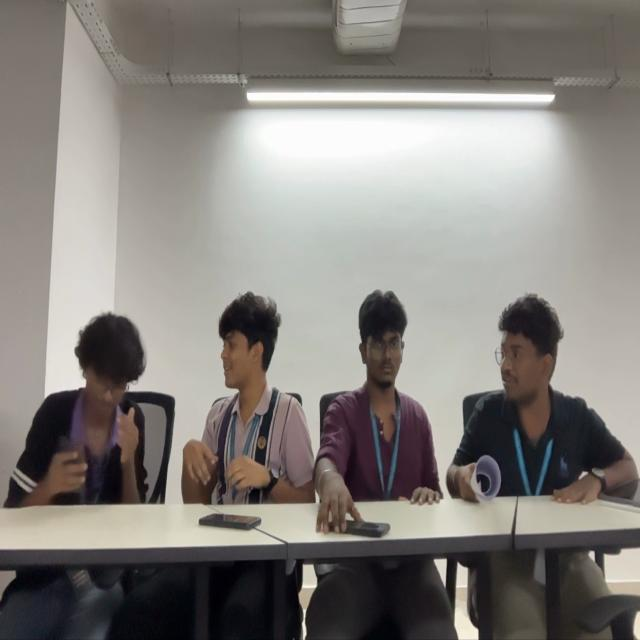Isolated: (448, 293, 638, 504), (318, 287, 439, 507)
socializing: (0, 280, 315, 504)
